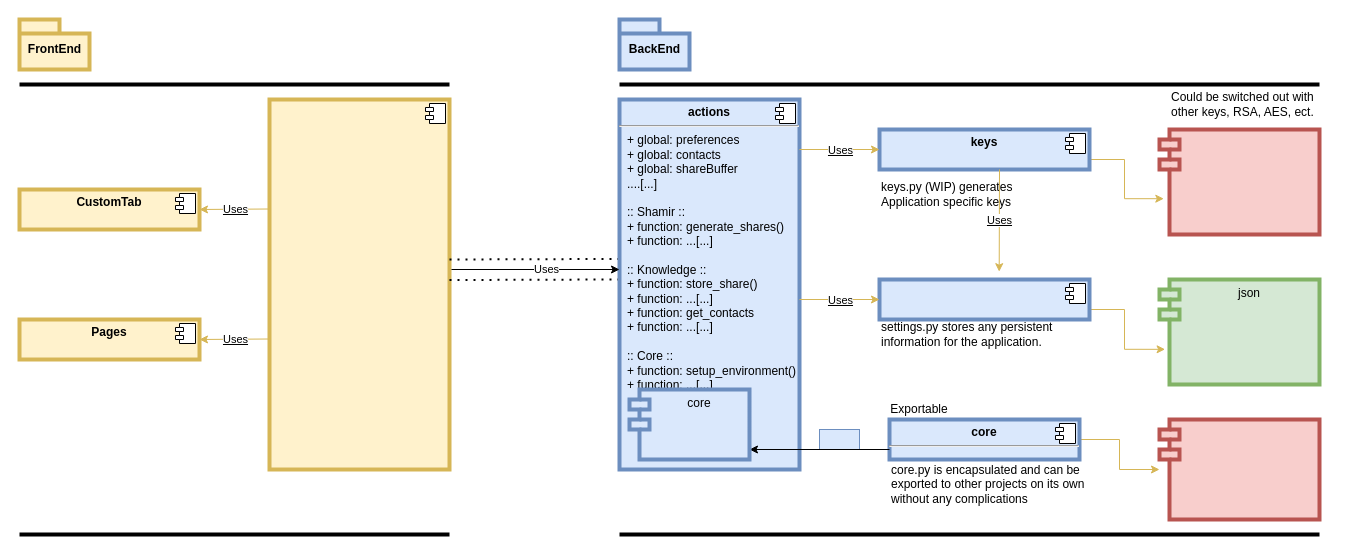
Some shapes in this 1346 by 558 pixel diagram are drawn without their labels. Each missing label, with the box of its shape:
BACNetCore: (1157, 417, 1321, 521)
crypto: (1157, 127, 1321, 236)
extends: (818, 428, 860, 450)
secretSharingUI: (267, 97, 451, 471)
settings: (877, 277, 1091, 321)
